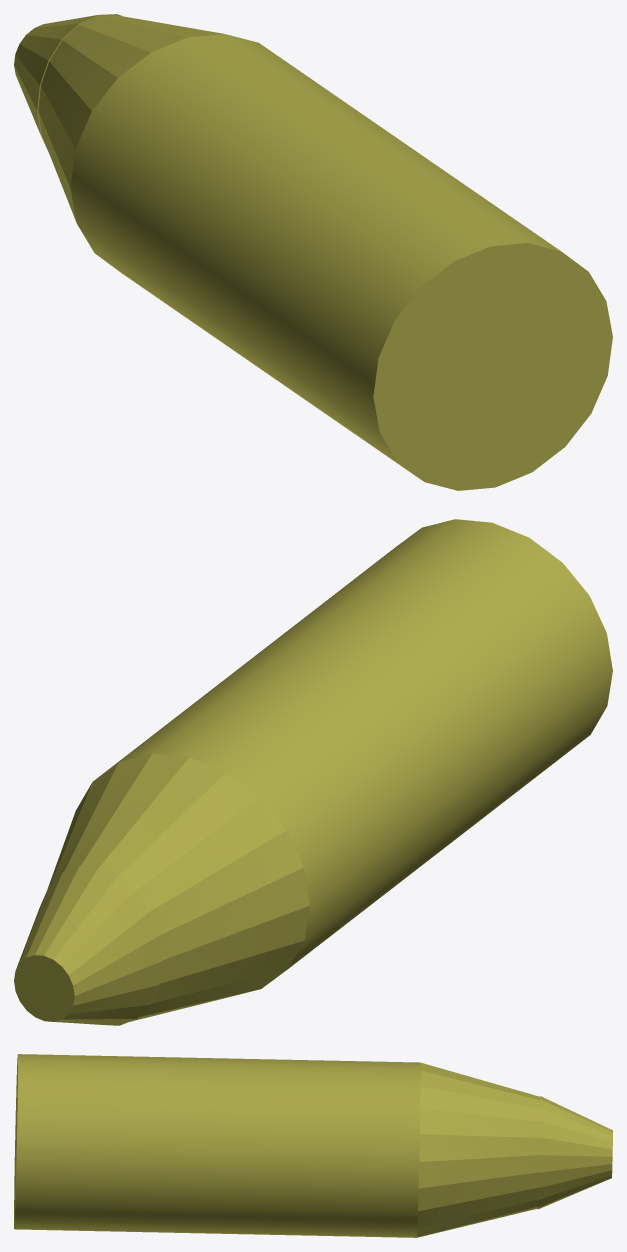
The model's file is Bullet.fbx.
3 views of the same model, one above another, from view 1: azimuth 30°, elevation 25°; view 2: azimuth 150°, elevation 25°; view 3: azimuth 270°, elevation 25° (orthographic). The views are drawn at different scales.
Parts seen in each view (by area): view 1: pCylinder1; view 2: pCylinder1; view 3: pCylinder1.
Boxes of the visible parts, x1,y1,x2,y2 form: pCylinder1: (14, 14, 612, 490); pCylinder1: (14, 519, 612, 1025); pCylinder1: (14, 1054, 612, 1237).
Size of the model in its own units: 1.37 by 1.38 by 4.46.
